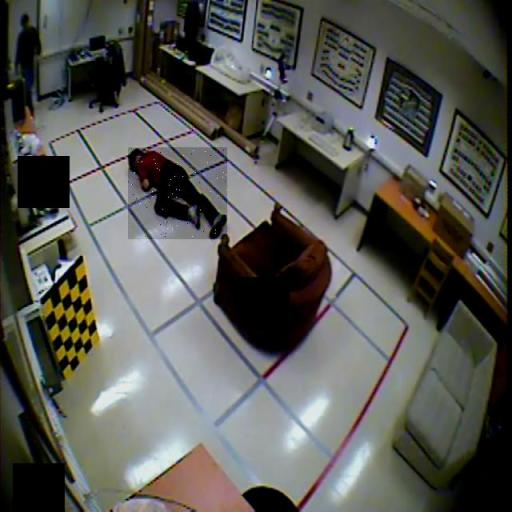Fall: (128, 147, 227, 239)
